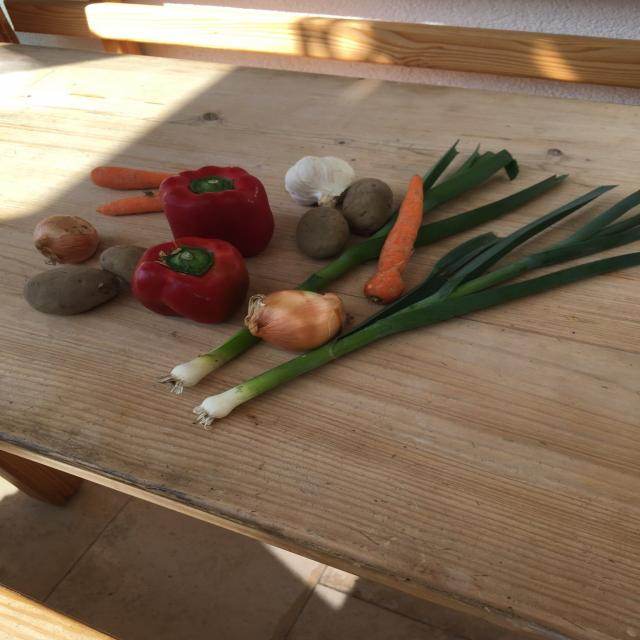carrot: (362, 173, 431, 305), (81, 159, 186, 193), (88, 188, 170, 217)
garlic: (276, 154, 356, 206)
leek: (191, 182, 640, 425), (162, 142, 563, 392)
onion: (241, 283, 347, 351), (24, 209, 106, 267)
pepper: (163, 161, 279, 264), (134, 233, 256, 330)
potato: (15, 260, 119, 318), (340, 172, 406, 241), (293, 200, 358, 265), (98, 240, 152, 286)
